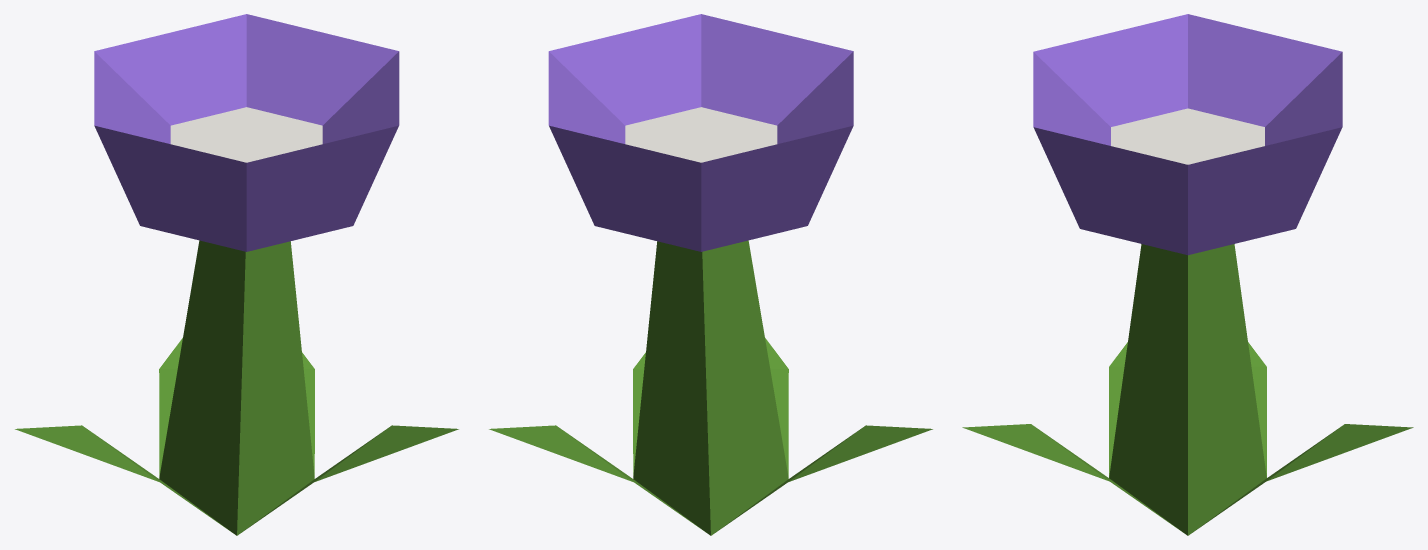
Rendered from flower_purple2.glb.
3 views of the same model, side by side, from view 1: azimuth 30°, elevation 25°; view 2: azimuth 150°, elevation 25°; view 3: azimuth 270°, elevation 25° (orthographic).
Parts seen in each view (by area): view 1: flower_purpleC; view 2: flower_purpleC; view 3: flower_purpleC.
Boxes of the visible parts, bbox=[...] form: flower_purpleC: bbox=[15, 14, 458, 535]; flower_purpleC: bbox=[489, 14, 932, 535]; flower_purpleC: bbox=[962, 14, 1413, 535].
Bounding box in the file's own units: 0.4948 × 0.5 × 0.496.
